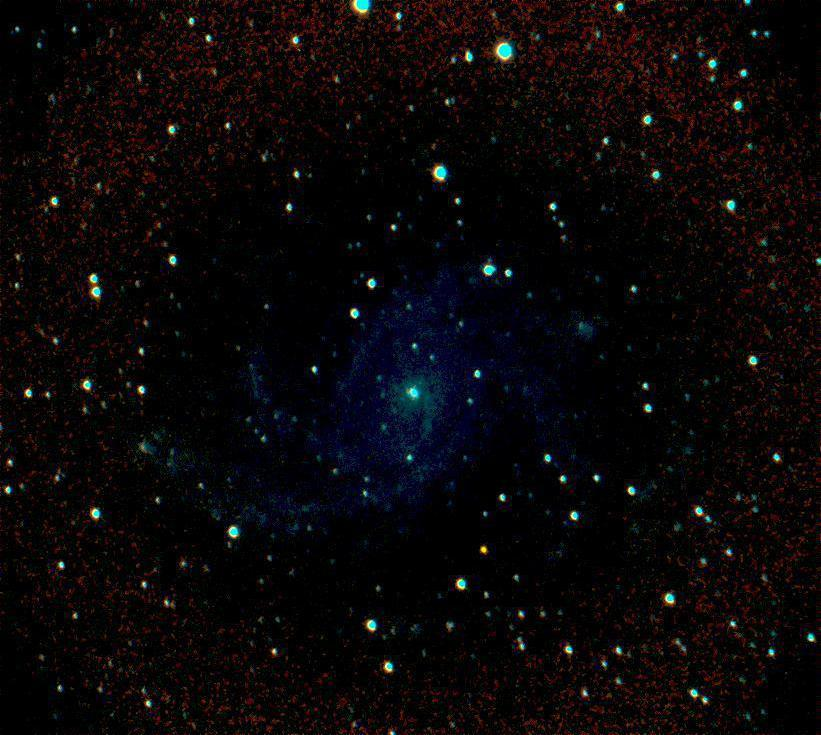star: (469, 536, 499, 566)
